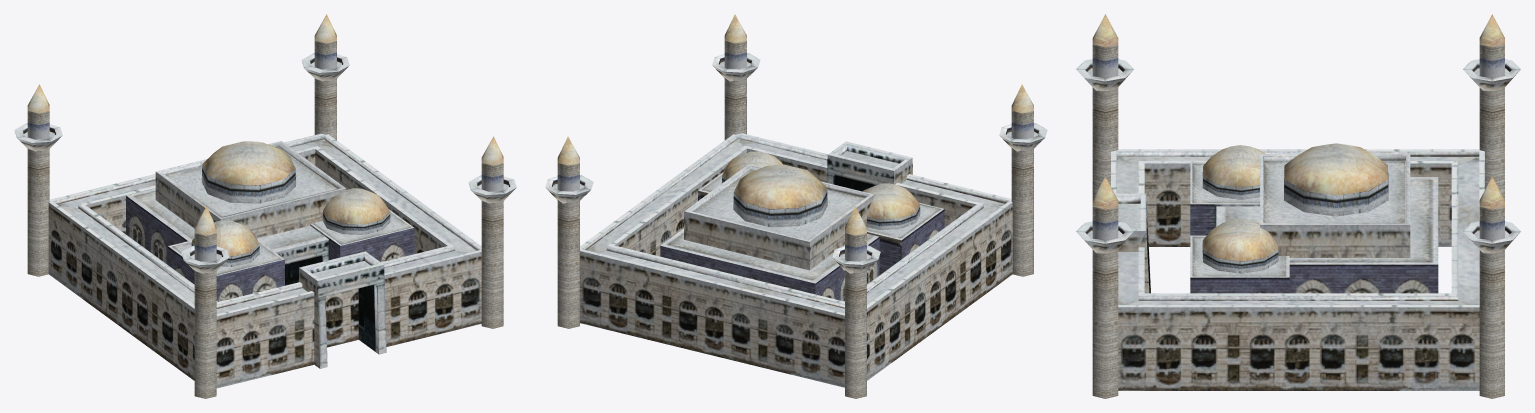
Rendered from Civilian - Civilian Building - Stan Town Hall 01 - Snow - CBMeCtdrl1_s.glb.
3 views of the same model, side by side, from view 1: azimuth 30°, elevation 25°; view 2: azimuth 150°, elevation 25°; view 3: azimuth 270°, elevation 25° (orthographic). The views are drawn at different scales.
Visible parts, largest first — view 1: CBMECTDRL1_S; view 2: CBMECTDRL1_S; view 3: CBMECTDRL1_S.
Boxes of the visible parts, x1,y1,x2,y2 form: CBMECTDRL1_S: (14, 14, 516, 398); CBMECTDRL1_S: (545, 14, 1047, 398); CBMECTDRL1_S: (1076, 14, 1520, 398).
Bounding box in the file's own units: 145 × 78.54 × 146.
1 material, 1 textured.
